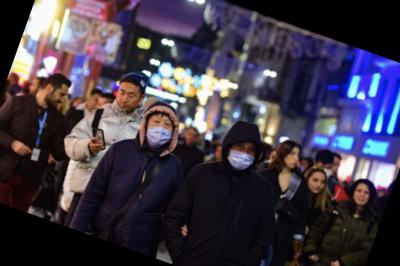with_mask: (142, 113, 178, 151), (224, 137, 260, 174)
without_mask: (112, 85, 141, 114), (43, 85, 68, 112), (281, 147, 303, 172), (305, 173, 328, 196), (350, 185, 373, 208), (184, 128, 199, 146)
